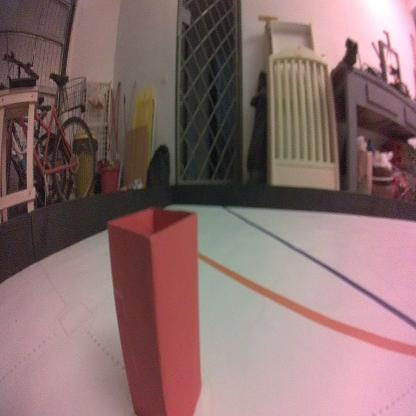red: (105, 207, 203, 416)
